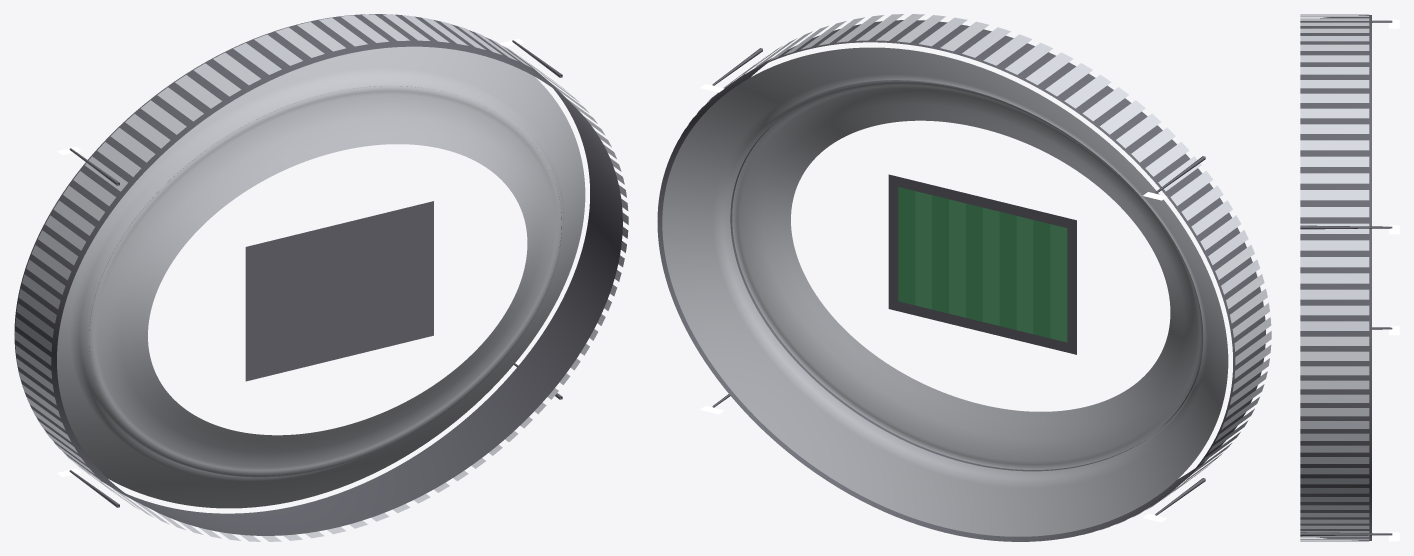
Rendered from stadium_open.glb.
3 renders of one model, left to right at view 1: azimuth 30°, elevation 25°; view 2: azimuth 150°, elevation 25°; view 3: azimuth 270°, elevation 25°, orthographic. The views are drawn at different scales.
Parts seen in each view (by area): view 1: stadium_open; view 2: stadium_open; view 3: stadium_open.
Boxes of the visible parts, x1,y1,x2,y2 form: stadium_open: [14, 14, 628, 541]; stadium_open: [657, 14, 1271, 541]; stadium_open: [1300, 14, 1399, 541].
Bounding box in the file's own units: 359 × 287 × 56.
